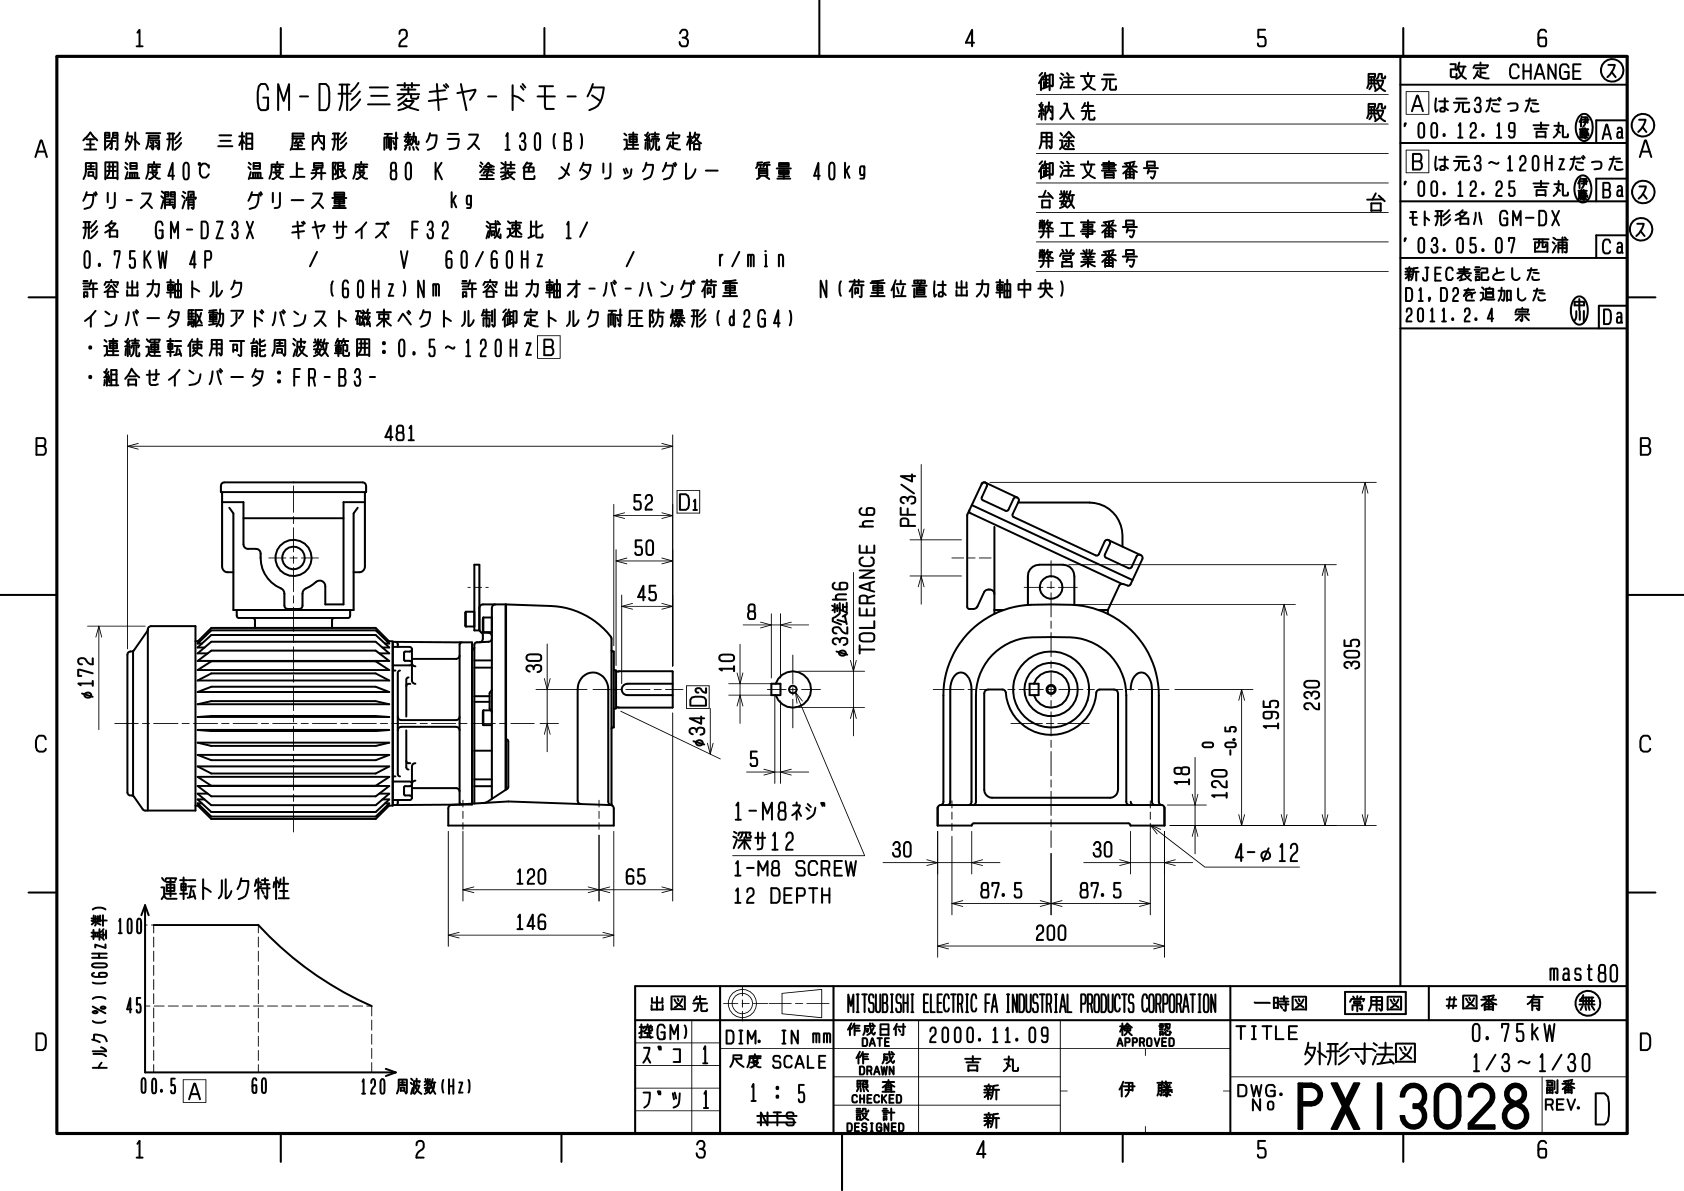GM_D_制御屋内_三相_脚: (1, 9, 1684, 1191)
